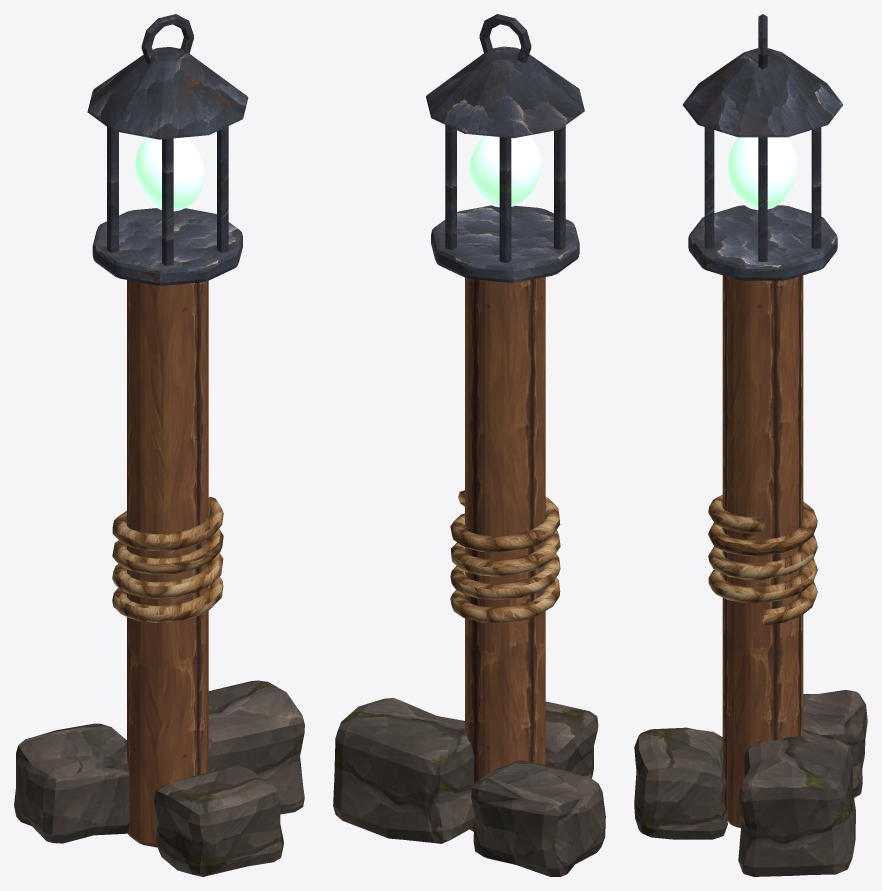
Rendered from glow_lamp.glb.
3 renders of one model, left to right at view 1: azimuth 30°, elevation 25°; view 2: azimuth 150°, elevation 25°; view 3: azimuth 270°, elevation 25°, orthographic. The views are drawn at different scales.
Visible parts, largest first — view 1: model; view 2: model; view 3: model.
Boxes of the visible parts, left/top/right/bottom form: model: left=14, top=14, right=304, bottom=876; model: left=333, top=14, right=605, bottom=876; model: left=634, top=14, right=867, bottom=876.
Size of the model in its own units: 0.4103 by 1.29 by 0.3394.
6 materials, 5 textured.
